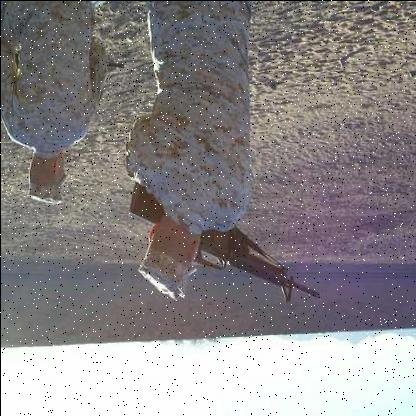rifle: (122, 151, 327, 320)
